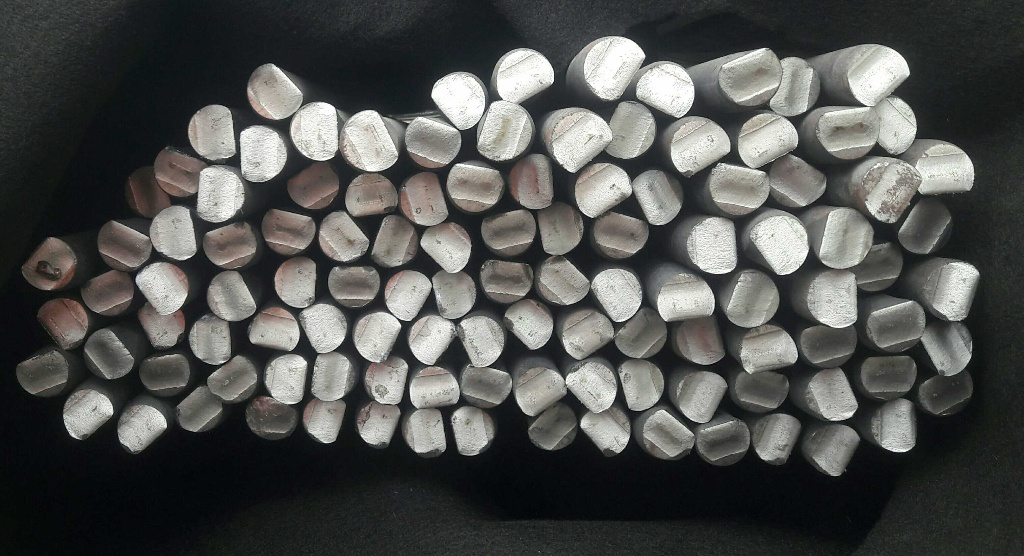dipstick: (584, 37, 644, 100), (848, 45, 908, 108), (717, 48, 782, 106), (552, 112, 611, 172), (340, 110, 398, 171), (749, 216, 808, 275), (862, 164, 921, 222), (818, 208, 874, 269), (247, 62, 303, 120), (672, 120, 730, 176), (738, 114, 798, 167), (924, 263, 978, 321), (818, 107, 878, 159), (898, 200, 953, 256), (710, 162, 769, 214), (637, 64, 693, 118), (431, 73, 484, 130), (496, 50, 554, 102), (479, 102, 531, 160), (769, 56, 819, 116), (21, 237, 77, 290), (576, 164, 632, 217), (727, 271, 779, 328), (148, 206, 202, 260), (405, 116, 460, 169), (807, 271, 858, 328), (920, 321, 973, 375), (770, 155, 825, 207), (868, 300, 924, 351), (135, 262, 188, 315), (97, 219, 152, 270), (632, 170, 683, 225), (238, 125, 287, 182), (606, 102, 655, 159), (916, 144, 973, 193), (591, 267, 642, 321), (688, 217, 737, 273), (447, 163, 504, 211), (186, 104, 235, 159), (291, 103, 338, 160), (273, 256, 324, 308), (805, 370, 859, 419), (741, 326, 797, 373), (84, 329, 135, 380), (561, 310, 613, 360), (262, 205, 315, 254), (516, 367, 569, 416), (81, 268, 135, 316), (286, 161, 340, 209), (593, 212, 649, 258), (658, 273, 714, 319), (37, 298, 87, 349), (125, 166, 175, 217), (155, 146, 206, 196), (566, 363, 616, 414), (616, 307, 666, 358), (643, 411, 694, 461), (207, 271, 259, 320), (578, 408, 630, 457), (481, 209, 535, 256), (917, 372, 974, 416), (421, 223, 471, 273), (116, 405, 167, 454), (306, 351, 355, 402), (677, 372, 726, 423), (753, 413, 802, 464), (811, 425, 860, 476), (401, 173, 448, 226), (198, 168, 244, 222), (873, 96, 916, 153), (319, 212, 369, 261), (353, 312, 401, 363), (385, 269, 432, 321), (799, 325, 857, 367), (63, 390, 112, 439), (504, 300, 553, 349), (539, 256, 588, 305), (861, 356, 916, 399), (855, 242, 903, 291), (409, 315, 456, 365), (373, 216, 419, 267), (16, 351, 68, 396), (872, 399, 917, 451), (697, 421, 750, 465), (510, 154, 553, 208), (264, 355, 312, 403), (136, 302, 186, 348), (300, 304, 346, 354), (538, 203, 583, 254), (245, 395, 297, 439), (177, 384, 225, 431), (207, 356, 256, 402), (140, 351, 190, 396), (619, 361, 664, 411), (248, 308, 299, 352), (481, 258, 532, 302), (303, 397, 350, 444), (678, 317, 725, 364), (450, 407, 496, 455), (463, 363, 512, 408), (528, 404, 577, 449), (345, 174, 398, 215), (459, 317, 503, 366), (404, 407, 447, 457), (433, 269, 476, 319), (328, 267, 379, 308), (188, 314, 230, 363), (736, 372, 790, 410), (357, 402, 402, 447), (410, 366, 458, 408), (365, 357, 408, 403)
